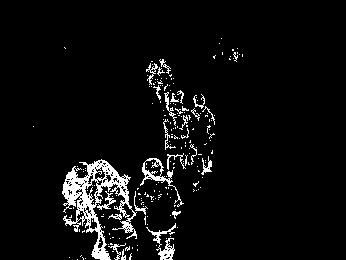person: (140, 153, 186, 260), (92, 164, 139, 259), (63, 163, 93, 260), (192, 91, 215, 190), (165, 88, 186, 177), (159, 59, 177, 105), (145, 61, 160, 111)
